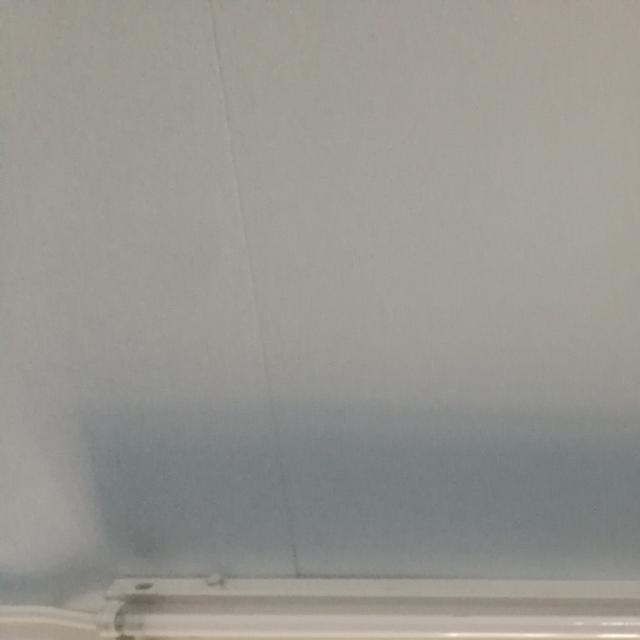fluorescent tube: (84, 537, 640, 640)
